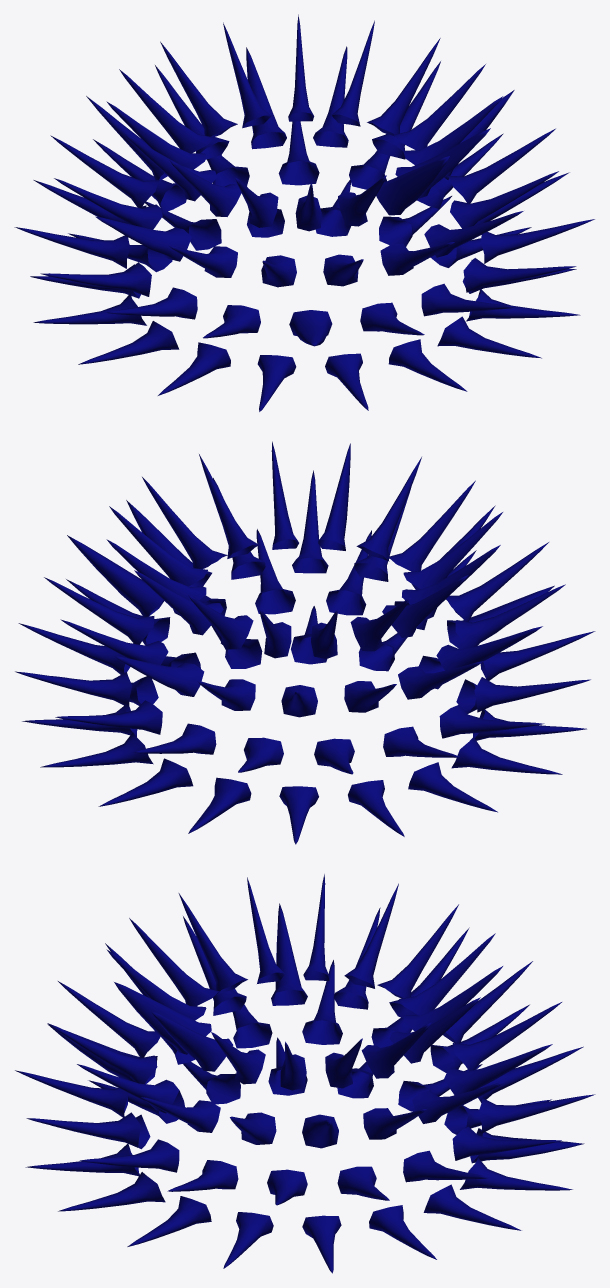
The model's file is Spikeobject.fbx.
3 views of the same model, one above another, from view 1: azimuth 30°, elevation 25°; view 2: azimuth 150°, elevation 25°; view 3: azimuth 270°, elevation 25° (orthographic).
Parts seen in each view (by area): view 1: Object054, Object020, Object036, Object025, Object056, Object010, Object018, Object035, Object051, Object061, Object064, Object037 (+51 smaller); view 2: Object032, Object051, Object043, Object015, Object040, Object034, Object021, Object054, Object010, Object048, Object020, Object030 (+46 smaller); view 3: Object020, Object054, Object045, Object051, Object056, Object062, Object011, Object027, Object033, Object055, Object047, Object030 (+49 smaller).
Boxes of the visible parts, bbox=[...] form: Object054: bbox=[374, 156, 449, 215]; Object020: bbox=[95, 216, 191, 261]; Object036: bbox=[447, 128, 555, 203]; Object025: bbox=[50, 135, 159, 207]; Object056: bbox=[40, 262, 151, 296]; Object010: bbox=[463, 258, 576, 292]; Object018: bbox=[14, 227, 129, 268]; Object035: bbox=[450, 171, 558, 228]; Object051: bbox=[246, 47, 286, 149]; Object061: bbox=[119, 69, 213, 153]; Object064: bbox=[393, 64, 485, 150]; Object037: bbox=[481, 219, 594, 263]; Object032: bbox=[67, 535, 163, 616]; Object051: bbox=[114, 656, 204, 696]; Object043: bbox=[44, 577, 154, 644]; Object015: bbox=[474, 677, 590, 712]; Object040: bbox=[15, 671, 132, 707]; Object034: bbox=[292, 470, 328, 573]; Object021: bbox=[455, 584, 565, 647]; Object054: bbox=[318, 443, 350, 550]; Object010: bbox=[255, 529, 295, 614]; Object048: bbox=[446, 542, 548, 621]; Object020: bbox=[436, 626, 542, 670]; Object030: bbox=[55, 700, 162, 734]; Object020: bbox=[271, 903, 307, 1005]; Object054: bbox=[114, 982, 211, 1054]; Object045: bbox=[151, 1011, 233, 1071]; Object051: bbox=[444, 1044, 552, 1095]; Object056: bbox=[302, 960, 342, 1044]; Object062: bbox=[452, 1002, 561, 1070]; Object011: bbox=[26, 1112, 140, 1147]; Object027: bbox=[479, 1094, 595, 1133]; Object033: bbox=[47, 1023, 157, 1083]; Object055: bbox=[58, 981, 160, 1057]; Object047: bbox=[129, 918, 219, 1006]; Object030: bbox=[452, 1126, 561, 1160].
Size of the model in its own units: 256 by 101 by 256.
